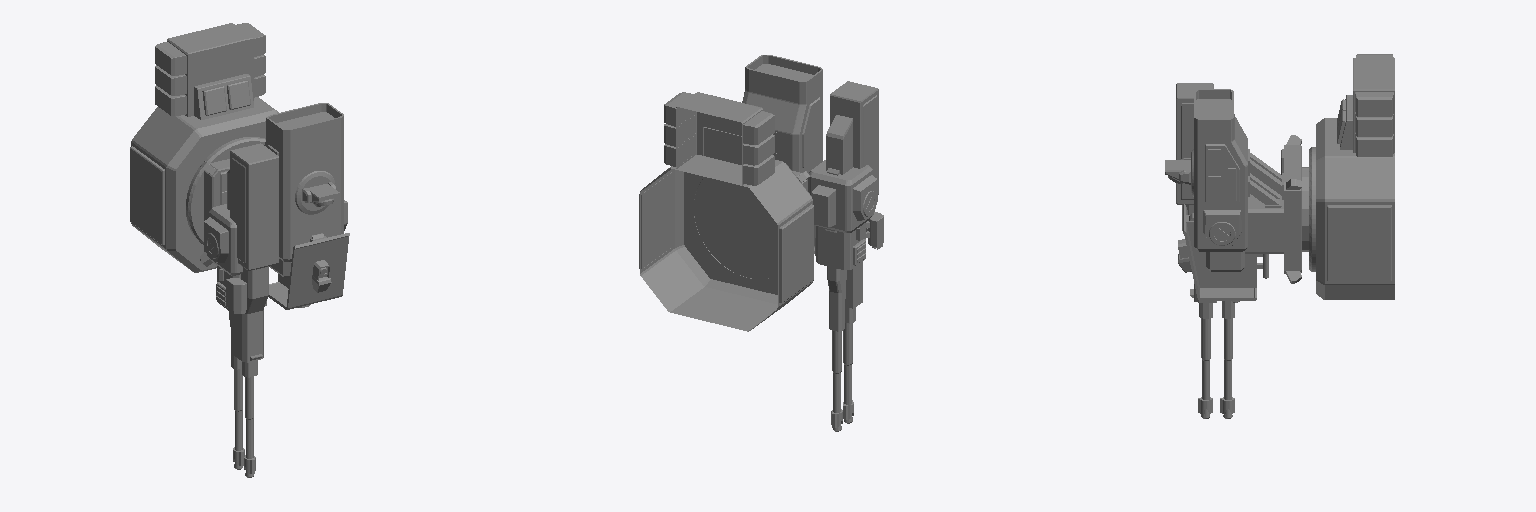
3 renders of one model, left to right at view 1: azimuth 30°, elevation 25°; view 2: azimuth 150°, elevation 25°; view 3: azimuth 270°, elevation 25°, orthographic.
Visible parts, largest first — view 1: Base_Mesh, Turret_Mesh.001, Guns_Mesh.002; view 2: Base_Mesh, Guns_Mesh.002, Turret_Mesh.001; view 3: Turret_Mesh.001, Base_Mesh, Guns_Mesh.002.
Boxes of the visible parts, box(x1,y1,x2,y2) form: Base_Mesh: box(130, 23, 278, 272); Turret_Mesh.001: box(200, 103, 349, 309); Guns_Mesh.002: box(204, 143, 278, 477); Base_Mesh: box(639, 92, 813, 331); Guns_Mesh.002: box(808, 81, 883, 431); Turret_Mesh.001: box(742, 55, 822, 253); Turret_Mesh.001: box(1165, 89, 1301, 302); Base_Mesh: box(1302, 54, 1394, 299); Guns_Mesh.002: box(1176, 83, 1234, 418).
Bounding box in the file's own units: 16.06 × 38.19 × 21.75.